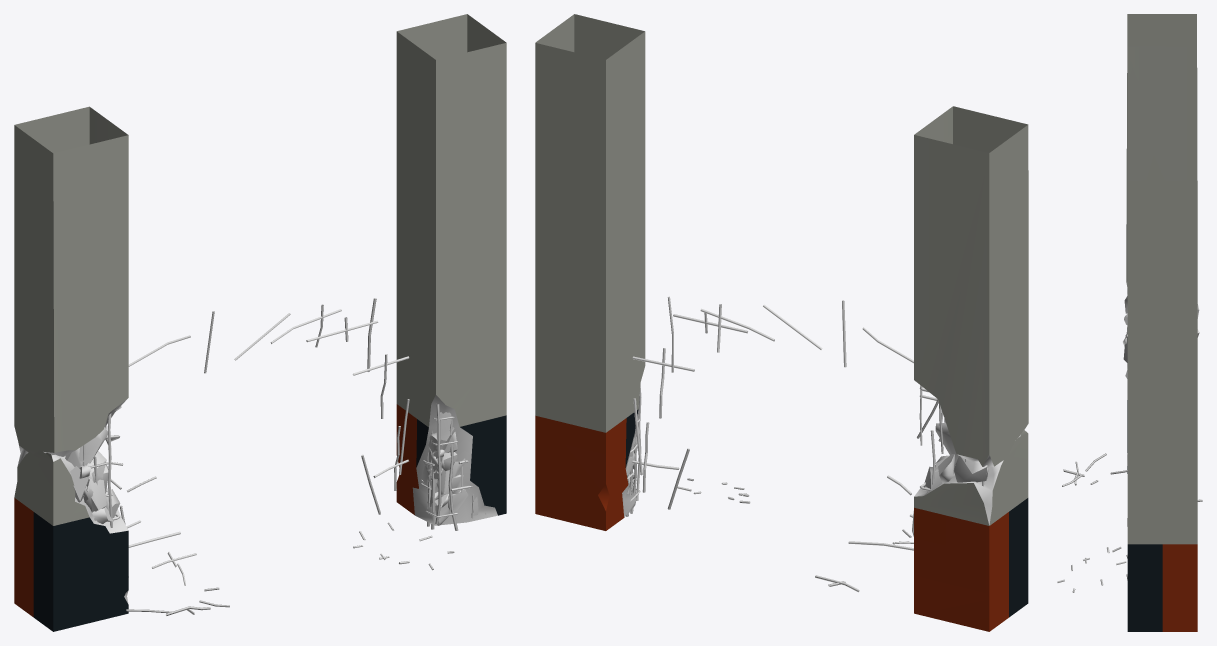
The model's file is SM_H_Building_Tide_Loungehall_10F_ATLAS.fbx.
3 views of the same model, side by side, from view 1: azimuth 30°, elevation 25°; view 2: azimuth 150°, elevation 25°; view 3: azimuth 270°, elevation 25° (orthographic). The views are drawn at different scales.
Parts seen in each view (by area): view 1: SM_H_Building_Tide_Loungehall_10F_ATLAS; view 2: SM_H_Building_Tide_Loungehall_10F_ATLAS; view 3: SM_H_Building_Tide_Loungehall_10F_ATLAS.
Boxes of the visible parts, <box> form: SM_H_Building_Tide_Loungehall_10F_ATLAS: <box>14,14,506,631</box>; SM_H_Building_Tide_Loungehall_10F_ATLAS: <box>535,14,1028,631</box>; SM_H_Building_Tide_Loungehall_10F_ATLAS: <box>1057,14,1202,631</box>.
Bounding box in the file's own units: 838 × 261 × 845.
